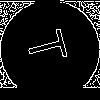T: (25, 25, 77, 66)
